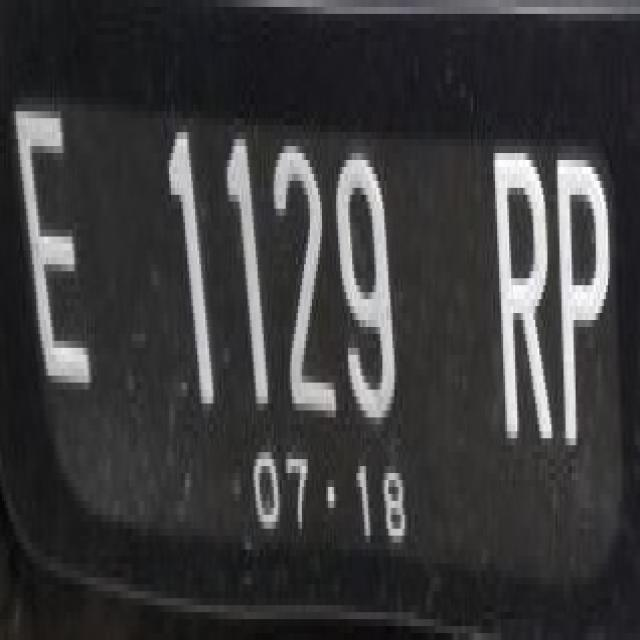plate: (6, 67, 628, 602)
